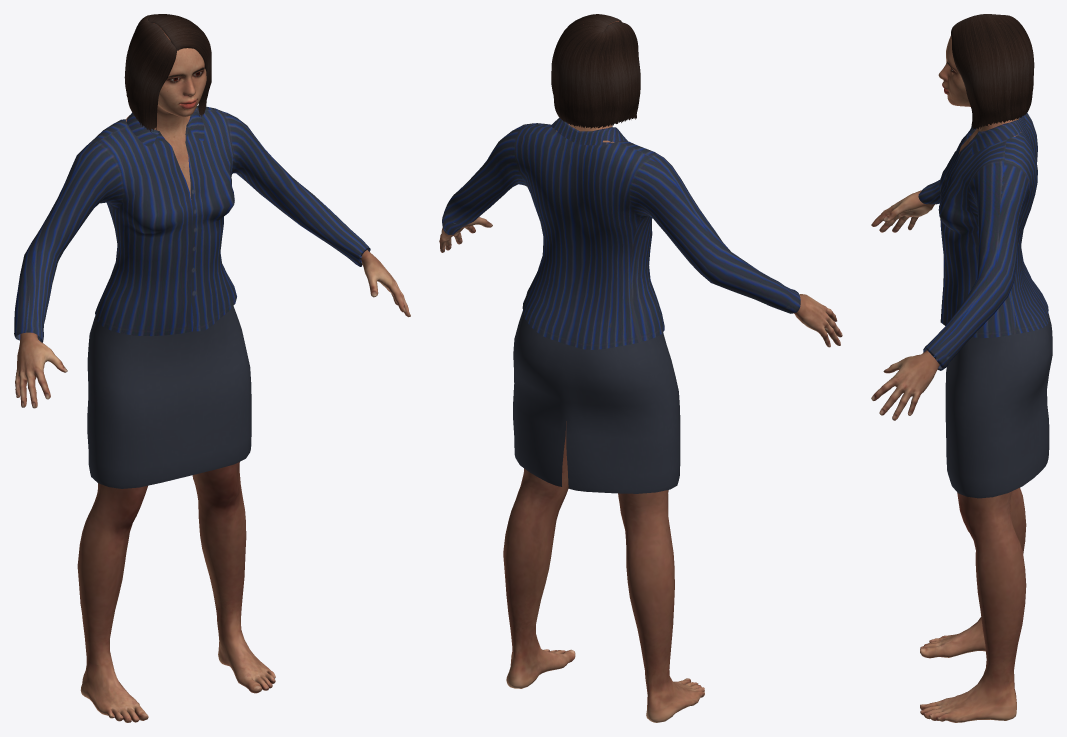
The model's file is maya.glb.
The picture shows the model from 3 angles, left to right: view 1: azimuth 30°, elevation 25°; view 2: azimuth 150°, elevation 25°; view 3: azimuth 270°, elevation 25°; orthographic projection.
Visible parts, largest first — view 1: clothes, body, hair; view 2: clothes, body, hair; view 3: clothes, body, hair.
Boxes of the visible parts, x1,y1,x2,y2 form: clothes: [14, 106, 370, 488]; body: [15, 23, 410, 722]; hair: [124, 14, 211, 132]; clothes: [442, 118, 800, 493]; body: [439, 21, 842, 722]; hair: [551, 14, 640, 128]; clothes: [918, 113, 1052, 498]; body: [871, 35, 1026, 722]; hair: [951, 14, 1034, 129].
Size of the model in its own units: 1.04 by 1.71 by 0.422.
Materials: 8 (8 with a texture image).
